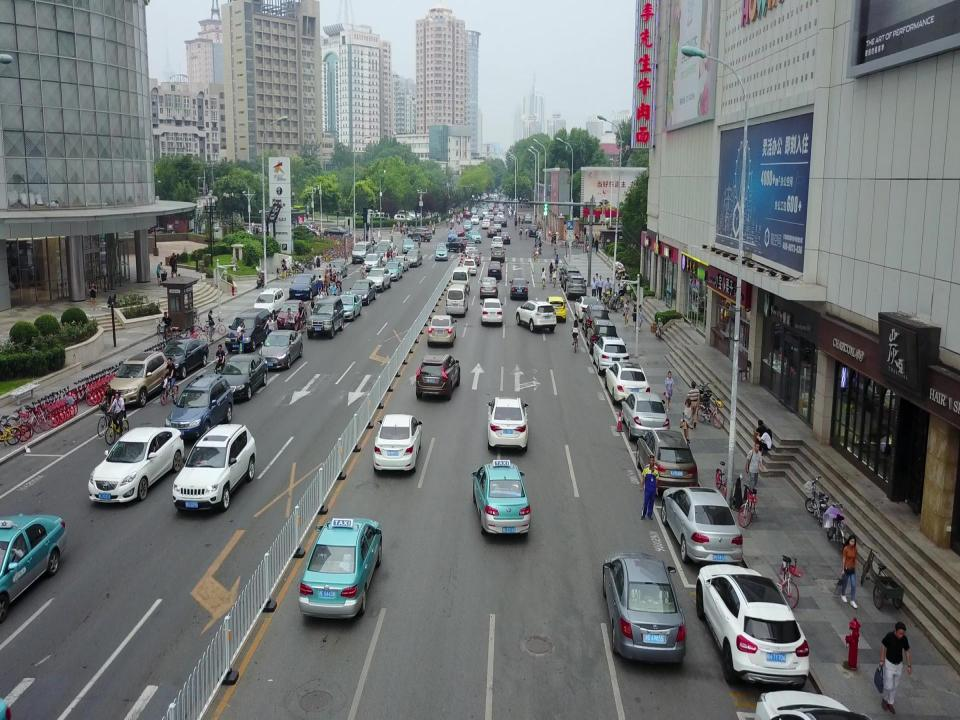car: (695, 564, 809, 686), (602, 552, 686, 662), (299, 518, 382, 618), (172, 424, 256, 512), (0, 512, 65, 625), (88, 427, 184, 502), (661, 487, 743, 564), (470, 460, 530, 534), (165, 375, 233, 440), (636, 429, 698, 496), (105, 352, 169, 408), (374, 415, 422, 472), (217, 353, 267, 400), (485, 397, 529, 450), (621, 393, 669, 441), (415, 352, 461, 399), (158, 338, 208, 378), (605, 363, 649, 407), (258, 329, 302, 370), (306, 295, 344, 339), (592, 336, 630, 374), (516, 300, 556, 333), (586, 319, 619, 354), (253, 286, 285, 321), (427, 316, 457, 347), (277, 299, 307, 330), (581, 304, 609, 336), (334, 291, 362, 321), (288, 273, 318, 299), (349, 279, 377, 305), (479, 299, 503, 326), (575, 297, 602, 321), (366, 267, 391, 292), (542, 296, 566, 322), (565, 275, 586, 300), (381, 259, 403, 281), (561, 268, 581, 291), (479, 276, 499, 298), (310, 266, 330, 288), (509, 278, 529, 299), (326, 260, 348, 279), (558, 264, 578, 284), (445, 237, 471, 252), (324, 226, 352, 239), (293, 225, 319, 239), (362, 253, 380, 273), (374, 244, 392, 263), (409, 227, 431, 242), (405, 250, 423, 268), (487, 262, 503, 280), (392, 255, 408, 272), (491, 244, 506, 262), (434, 243, 449, 260), (379, 239, 393, 257), (466, 229, 482, 244), (297, 220, 317, 232), (467, 249, 481, 266), (463, 259, 477, 276), (402, 237, 416, 253), (499, 231, 511, 246), (465, 241, 477, 256), (491, 236, 503, 250), (447, 229, 457, 243), (486, 226, 497, 237), (463, 220, 473, 231), (454, 227, 466, 236), (470, 216, 480, 225), (493, 220, 501, 231), (482, 219, 490, 229), (482, 216, 490, 226), (500, 218, 508, 227), (493, 216, 501, 224)
van: (226, 309, 270, 352), (446, 284, 468, 317), (451, 266, 470, 294), (352, 241, 372, 263)
